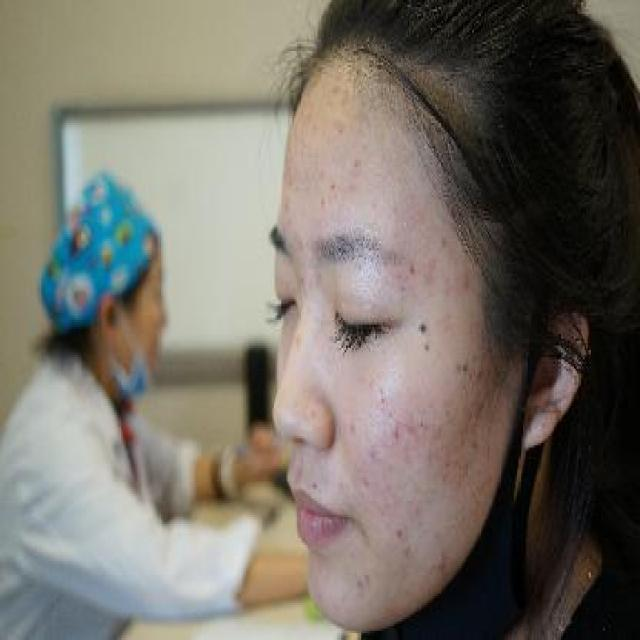blackheads: (335, 123, 348, 139), (414, 420, 426, 436), (348, 422, 357, 438), (394, 526, 401, 540)
dark spot: (451, 258, 477, 302), (354, 462, 378, 503), (398, 258, 424, 292), (348, 148, 370, 184), (388, 420, 406, 459), (322, 176, 342, 204)
